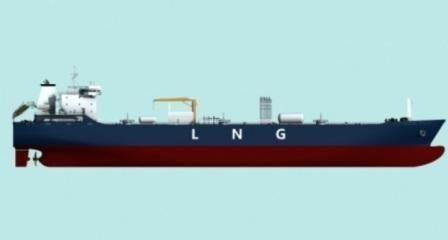Cargoship: (7, 65, 448, 171)
